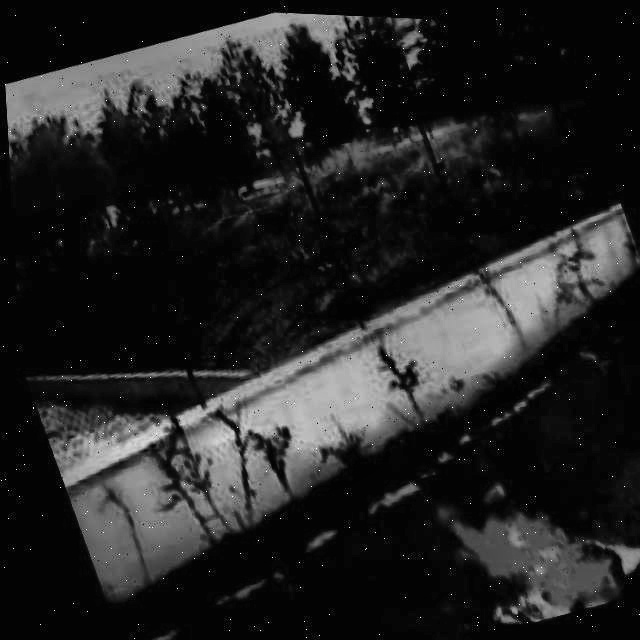Fire: (412, 441, 630, 640)
